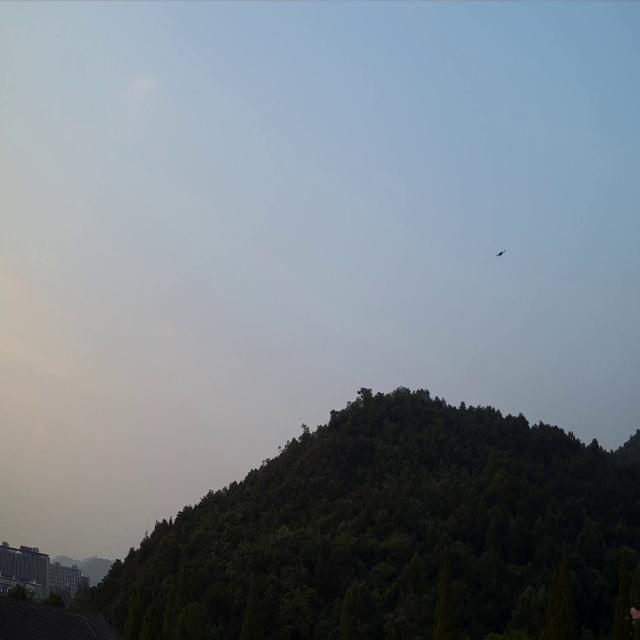UAV: (496, 249, 506, 258)
